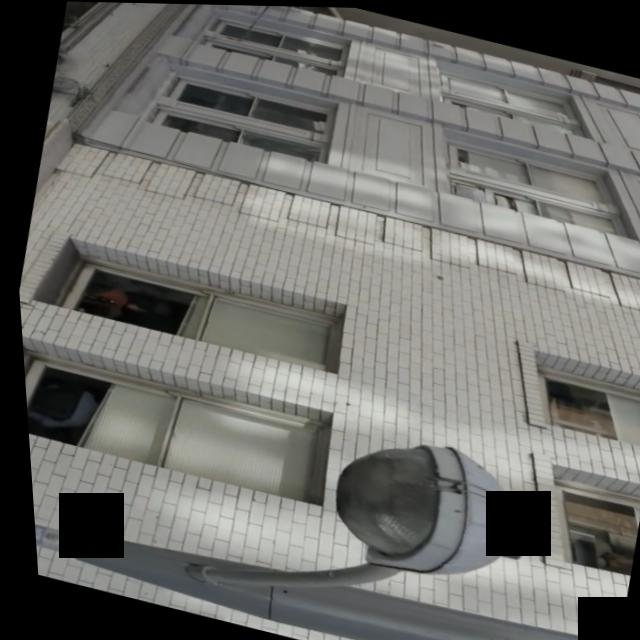Pole: (18, 337, 640, 640)
